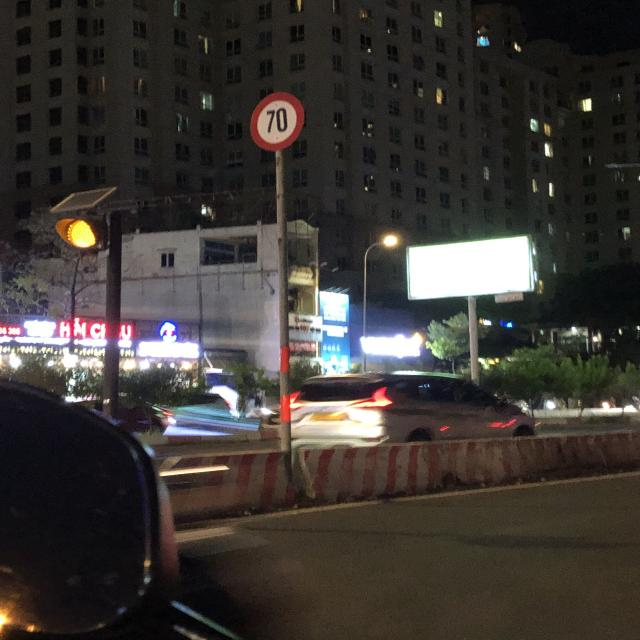Bien bao toc do toi da cho phep: (247, 89, 313, 150)
